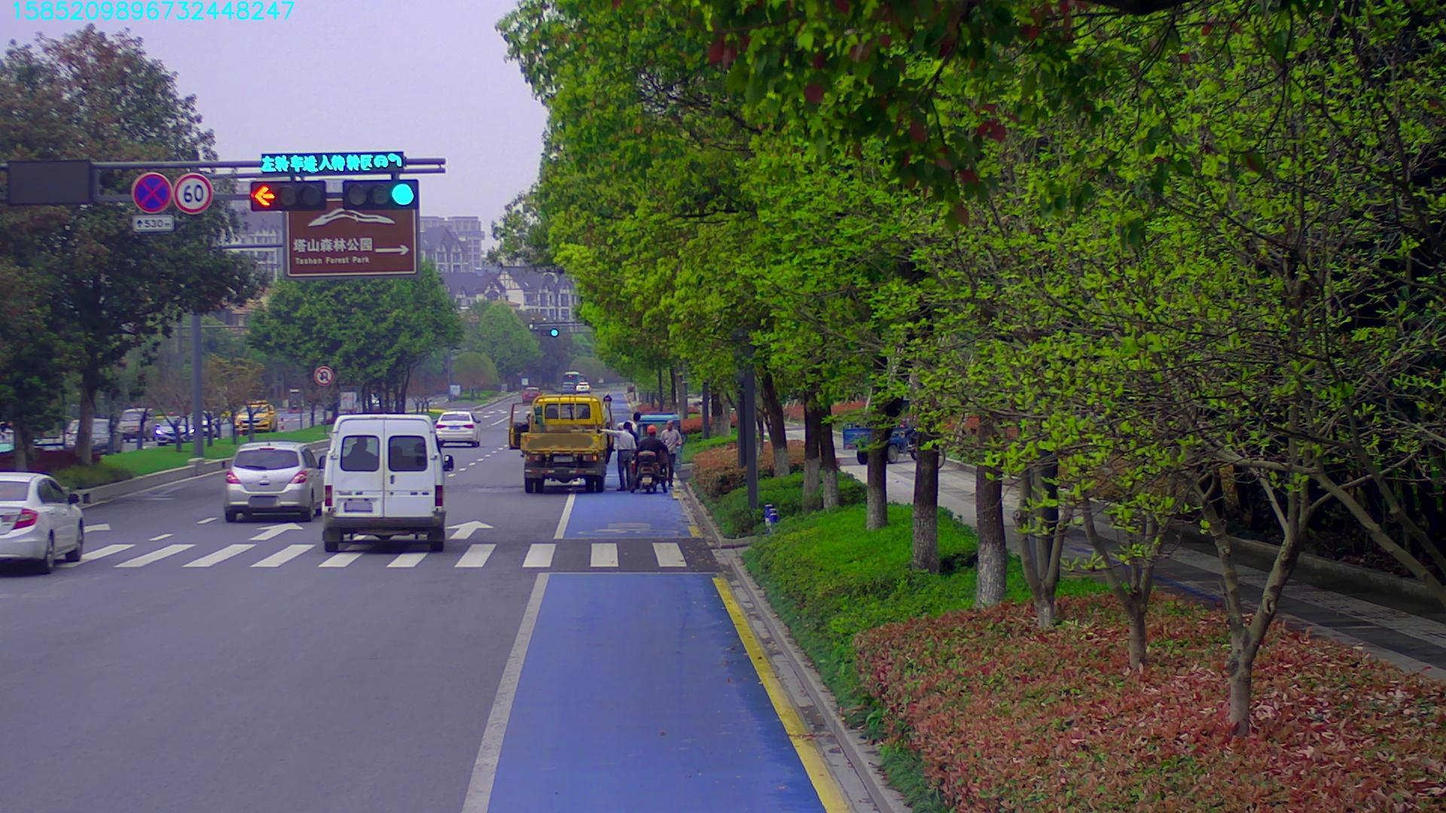green: (350, 178, 420, 206)
red: (255, 178, 319, 211)
wait_on: (257, 153, 396, 175)
